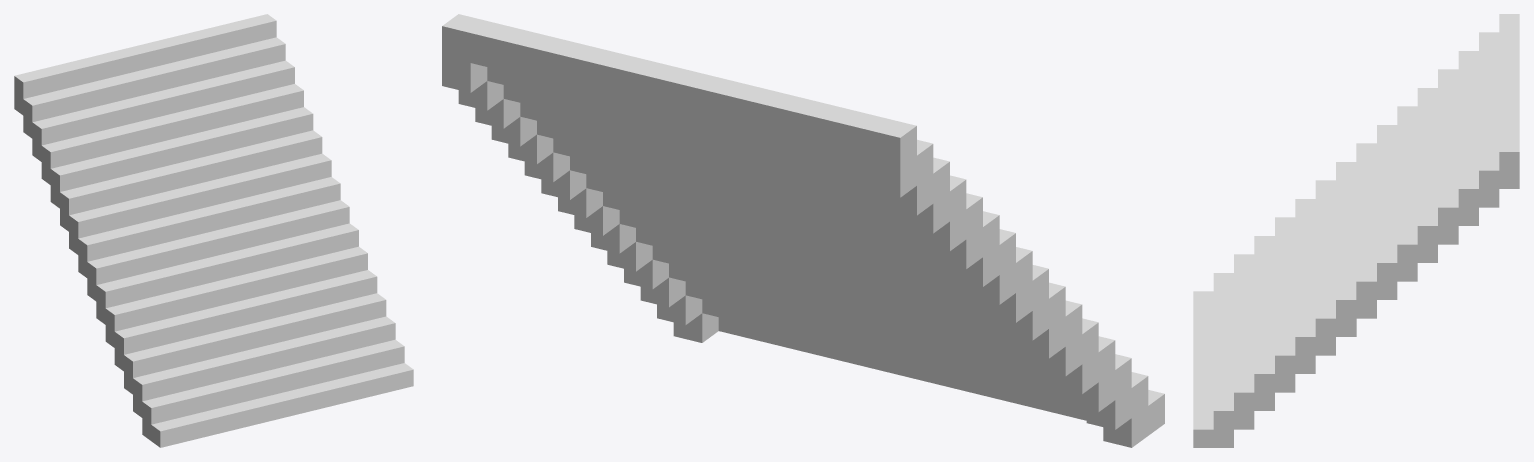
File: stair_colorable.obj
The picture shows the model from 3 angles, left to right: view 1: azimuth 30°, elevation 25°; view 2: azimuth 150°, elevation 25°; view 3: azimuth 270°, elevation 25°; orthographic projection. The views are drawn at different scales.
Size of the model in its own units: 16 by 16 by 16.
Materials: 1 (1 with a texture image).
